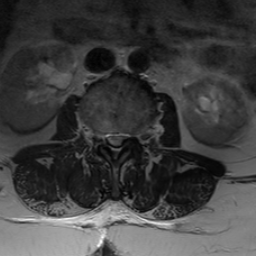CCS_normal: (112, 125, 120, 163)
LFS_severe_stenosis: (129, 128, 136, 145)
LLS_stenosis: (120, 128, 128, 150)
RFS_normal: (96, 126, 104, 150)
RLS_normal: (104, 126, 112, 151)
